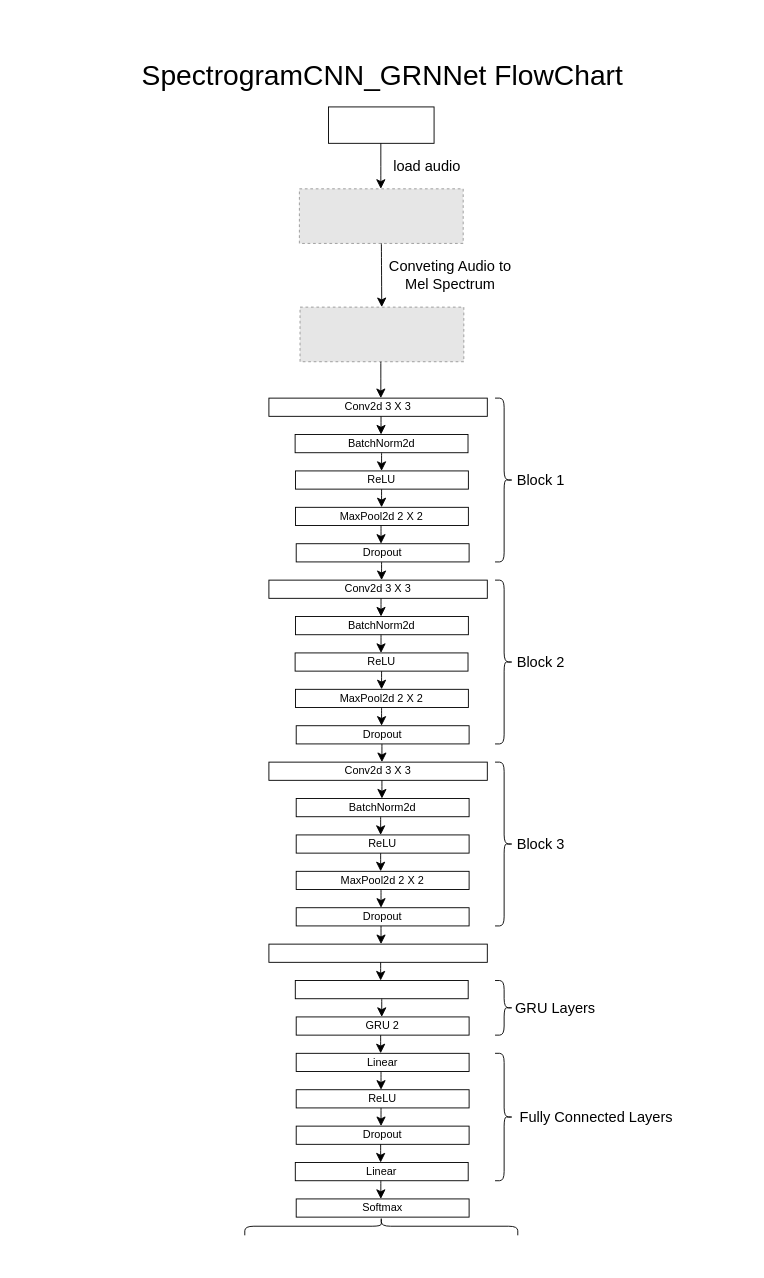
This 764x1278 diagram has some shape labels left out. Grey dashed boxes stand in for pictures. Here are the shapes that lost their labels. From the top down, the centre of each, then its label:
At point (381, 124): "Start".
At point (377, 952): "Converting 4D Tensor into 3D Tensor".
At point (381, 989): "GRU 1".
At point (381, 1225): "blues, classical, country, disco, hiphop, jazz, metal, pop, reggae, rock".
